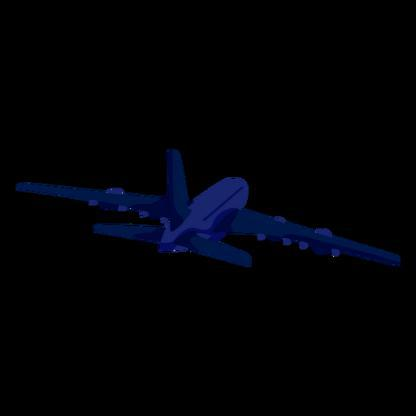CIV_Plane: (3, 148, 404, 282)
